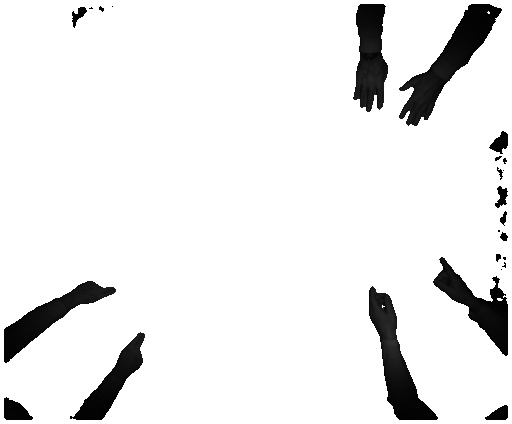hand: (395, 77, 447, 127), (352, 60, 392, 111), (432, 256, 473, 303), (368, 280, 399, 335), (119, 328, 151, 377), (75, 280, 119, 310)
